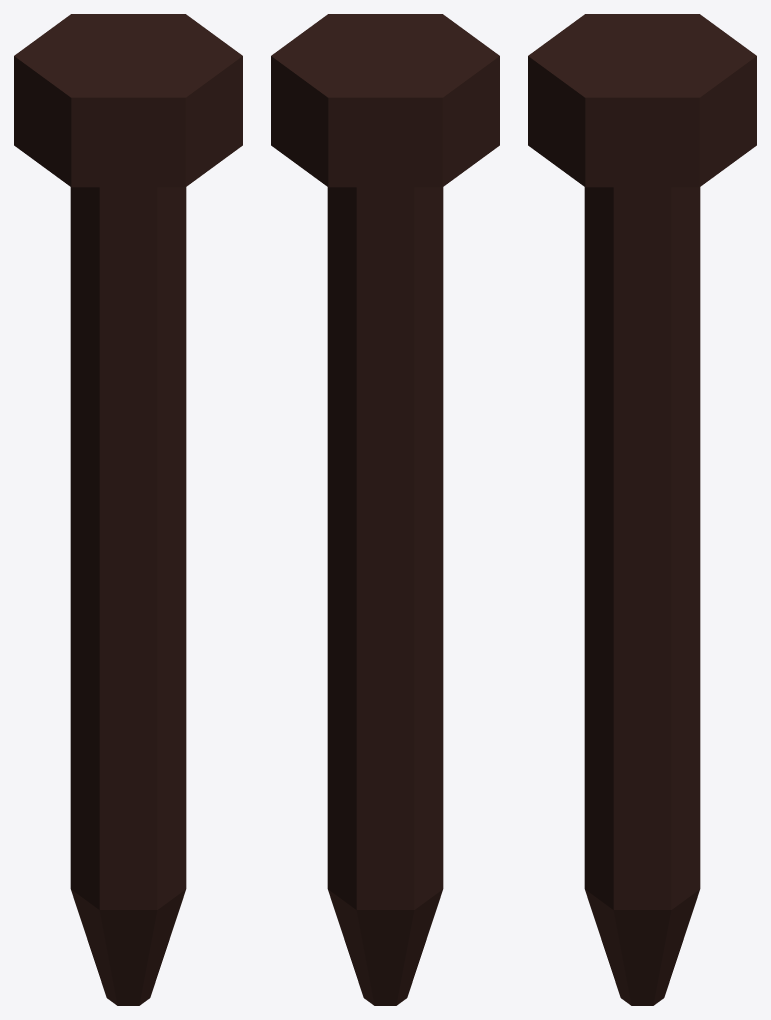
File: pin.glb
3 views of the same model, side by side, from view 1: azimuth 30°, elevation 25°; view 2: azimuth 150°, elevation 25°; view 3: azimuth 270°, elevation 25° (orthographic).
Visible parts, largest first — view 1: nail; view 2: nail; view 3: nail.
Boxes of the visible parts, x1,y1,x2,y2 form: nail: (14, 14, 242, 1005); nail: (271, 14, 499, 1005); nail: (528, 14, 756, 1005).
Size of the model in its own units: 0.0182 by 0.0954 by 0.021.
